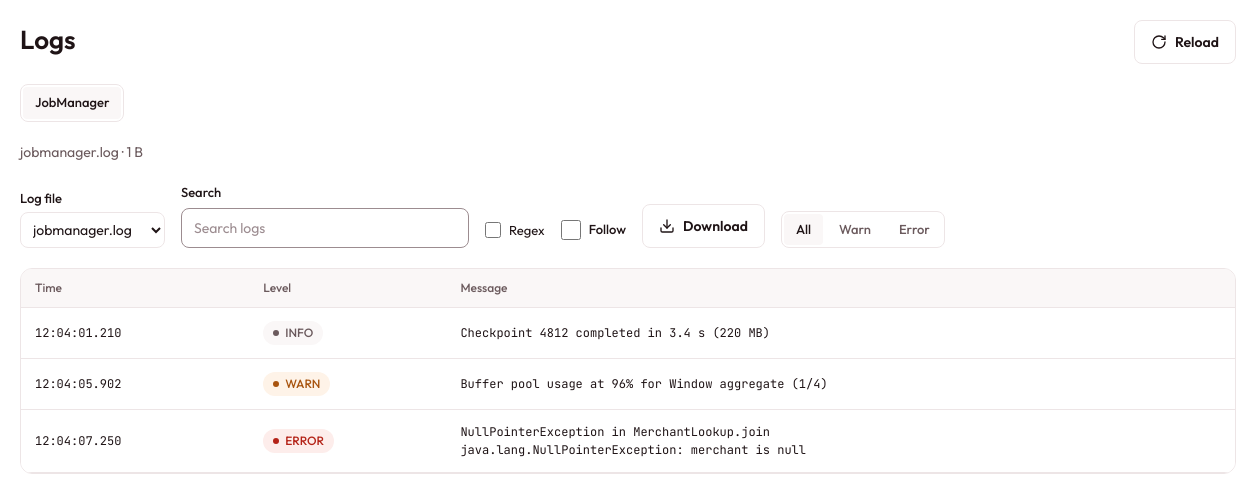
Test case: OPS-01 · Logs (D18, D18b) › audit logs3: Reload keeps a picked older file; a list that fails on Reload keeps its banner (no read without a list)
This screenshot has width=1257, height=491.
Check: the table named "Log lines" is shown, box [21, 269, 1235, 473]
Select "jobmanager.log.1" in the dropdown labelled "Log file" at (92, 230), box [20, 212, 165, 248]
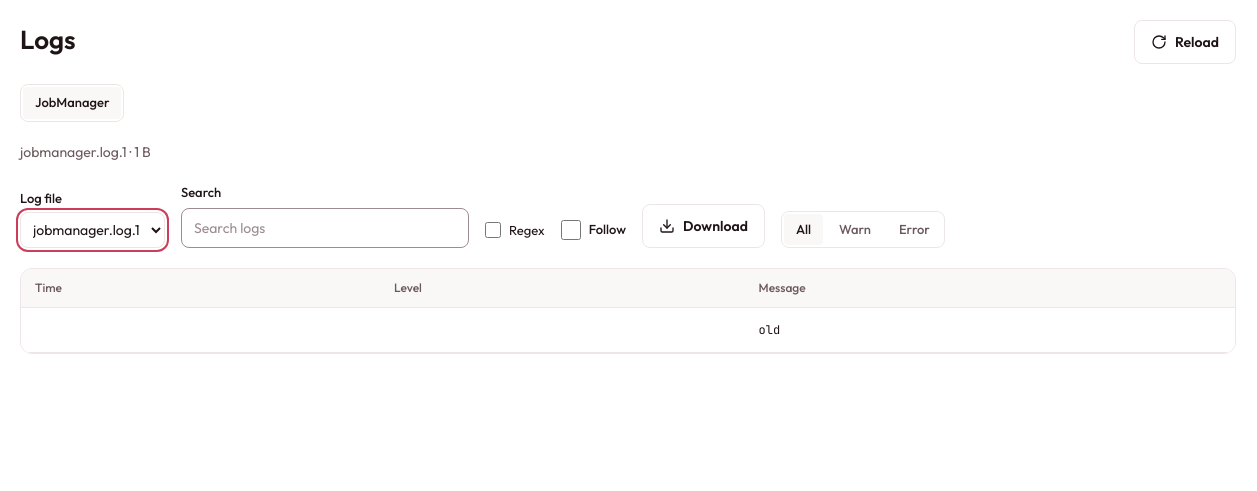
Check: the text "old" is shown, box [759, 322, 780, 338]
Click the button "Reload" at (1185, 42), box [1134, 20, 1236, 64]
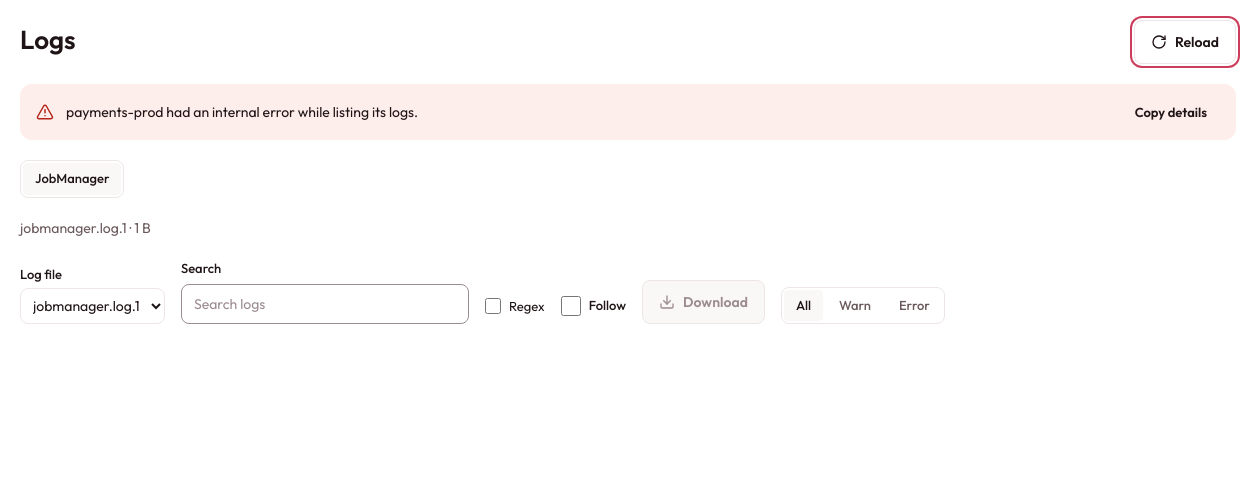
Check: the text "payments-prod had an internal error while listing its logs." is shown, box [65, 102, 418, 121]
Click the button "Reload" at (1185, 42), box [1134, 20, 1236, 64]
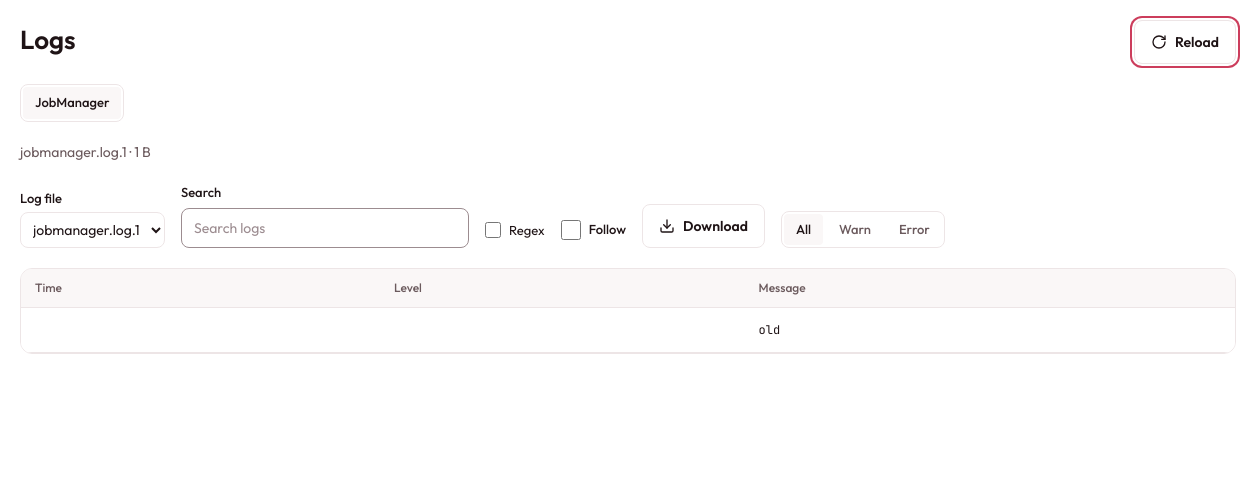
Check: the text "old" is shown, box [759, 322, 780, 338]
